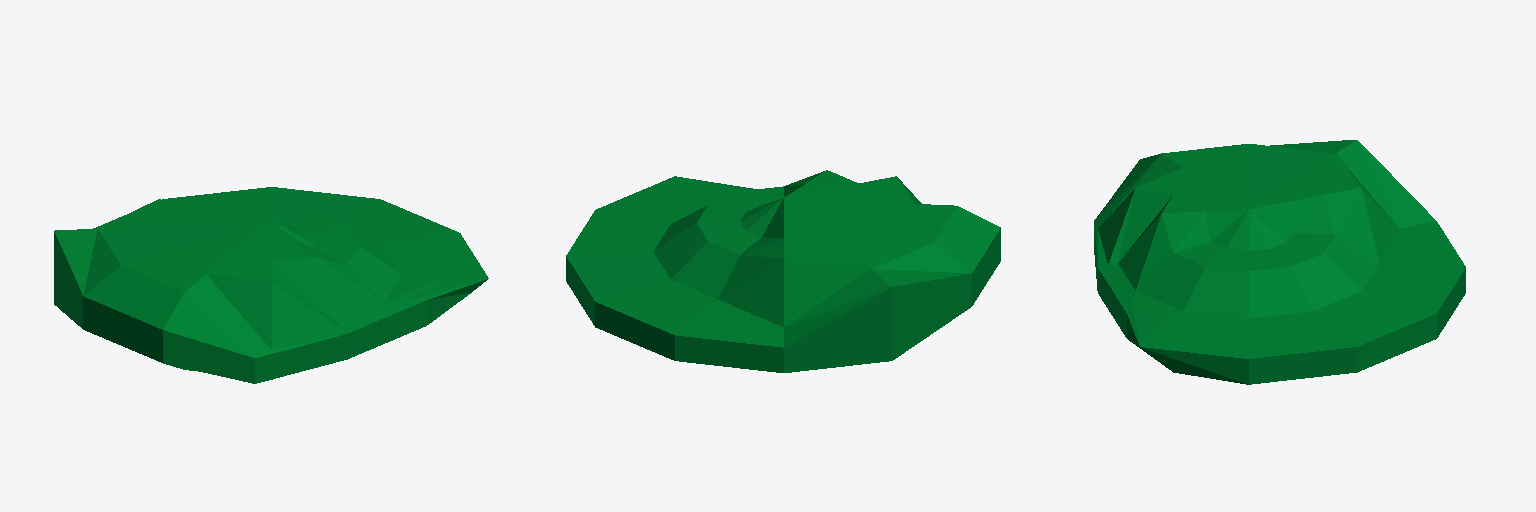
Rendered from Plataforma3.obj.
The picture shows the model from 3 angles: view 1: azimuth 30°, elevation 25°; view 2: azimuth 150°, elevation 25°; view 3: azimuth 270°, elevation 25°; orthographic projection.
Parts seen in each view (by area): view 1: Spindle001; view 2: Spindle001; view 3: Spindle001.
Part boxes in pixels (x1,y1,x2,y2): Spindle001: (54, 187, 488, 383); Spindle001: (566, 170, 1000, 372); Spindle001: (1094, 140, 1465, 384).
Bounding box in the file's own units: 575 × 136 × 492.